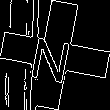N_N: (31, 27, 79, 83)
